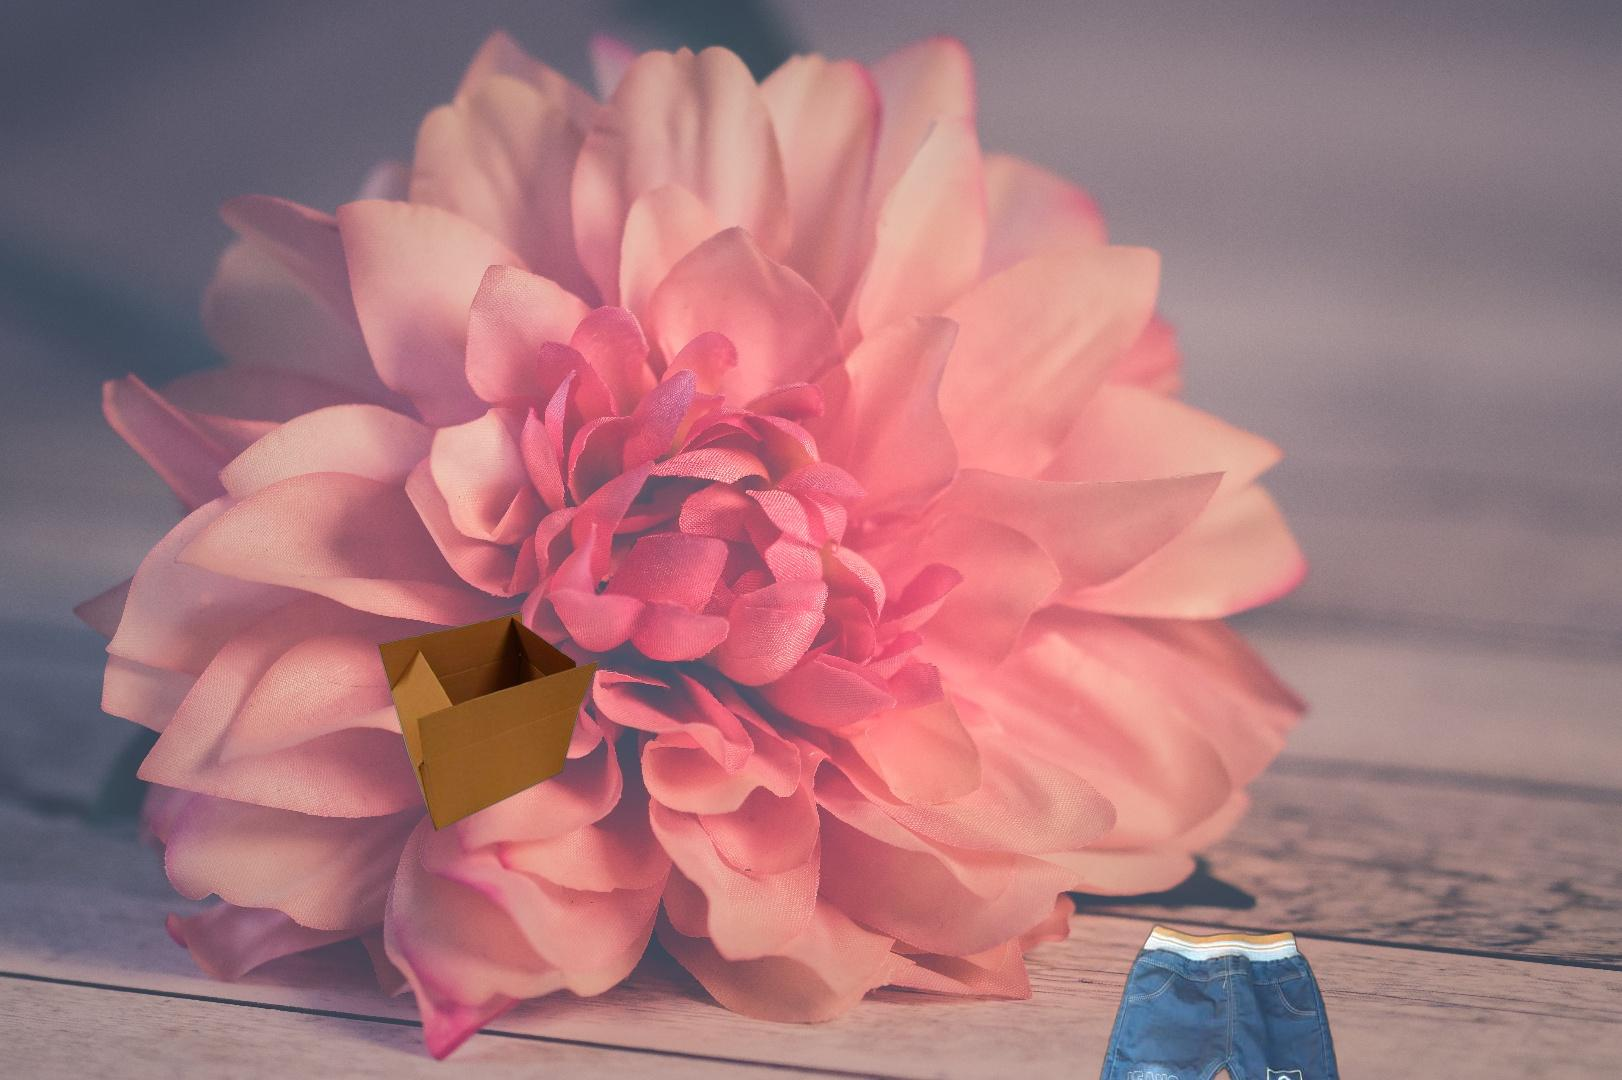clothes: (1068, 918, 1368, 1080)
glass: (750, 1074, 919, 1080)
trashbox-cardboard: (375, 609, 603, 834)
